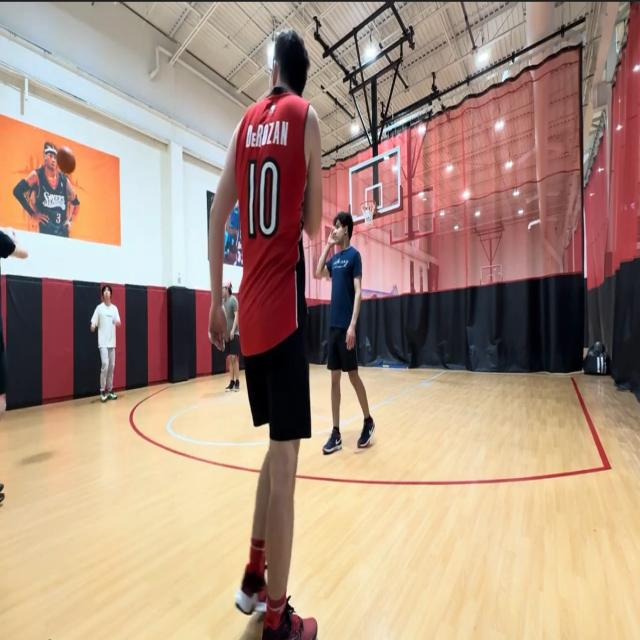Basketball Rim: (360, 200, 376, 225)
Player: (206, 27, 322, 640), (315, 211, 376, 457), (90, 283, 122, 402), (222, 280, 241, 394)
